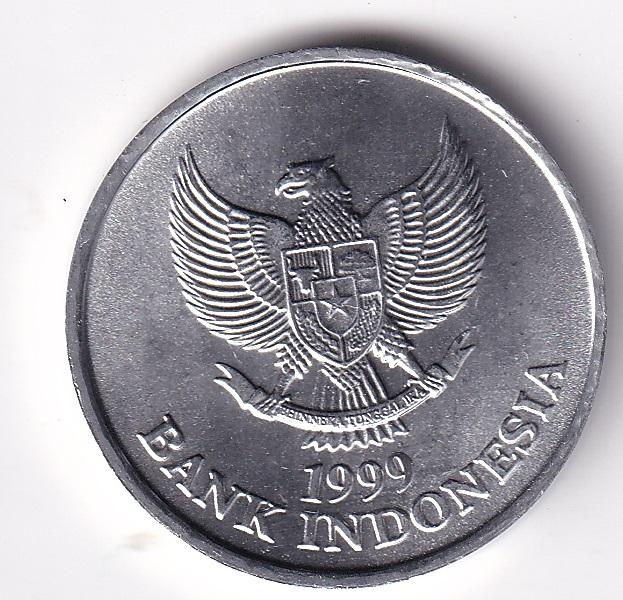coin_100_e1999: (64, 8, 623, 590)
